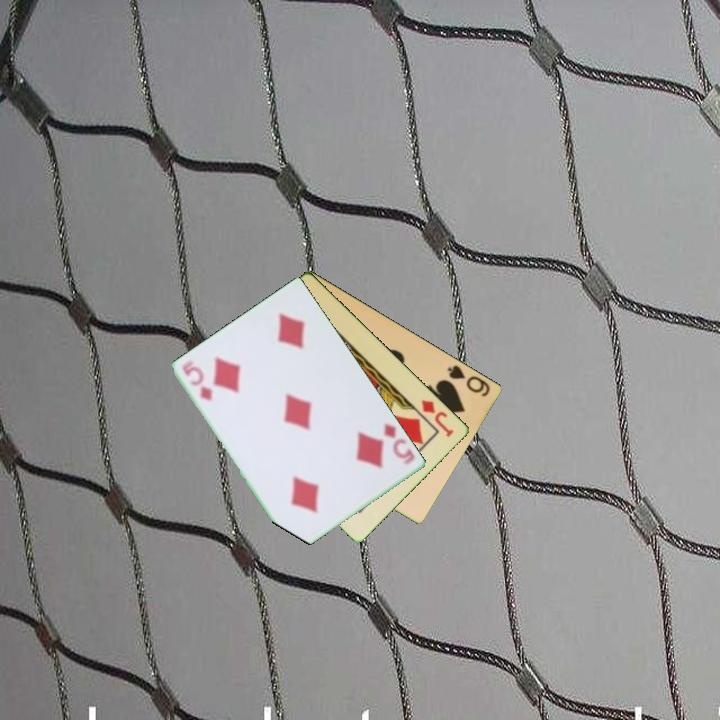5d: (381, 420, 418, 468), (179, 357, 216, 403)
6s: (444, 361, 494, 400)
Jd: (418, 396, 457, 440)
